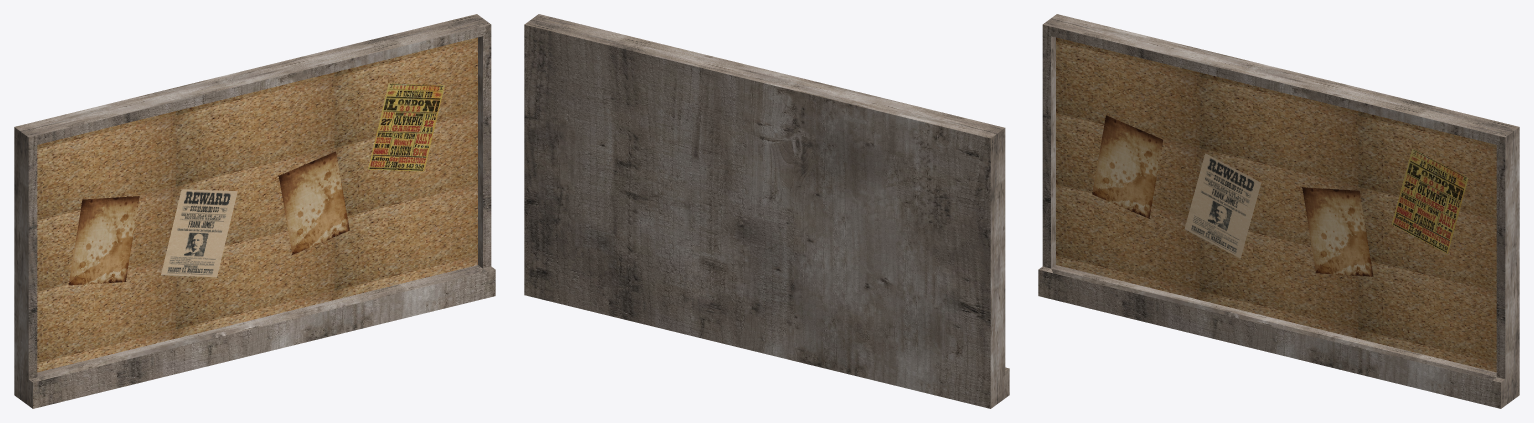
Rendered from notice board.FBX.
The picture shows the model from 3 angles, left to right: view 1: azimuth 30°, elevation 25°; view 2: azimuth 150°, elevation 25°; view 3: azimuth 330°, elevation 25°; orthographic projection.
Visible parts, largest first — view 1: Object001, pasted__pasted__pasted__pCube1, Plane001, Plane002, Plane004, Plane003; view 2: pasted__pasted__pasted__pCube1; view 3: Object001, pasted__pasted__pasted__pCube1, Plane003, Plane004, Plane002, Plane001.
Boxes of the visible parts, left/top/right/bottom form: Object001: left=37, top=37, right=477, bottom=372; pasted__pasted__pasted__pCube1: left=14, top=14, right=495, bottom=408; Plane001: left=368, top=83, right=444, bottom=171; Plane002: left=161, top=189, right=237, bottom=277; Plane004: left=68, top=196, right=139, bottom=285; Plane003: left=278, top=151, right=349, bottom=254; pasted__pasted__pasted__pCube1: left=524, top=14, right=1009, bottom=408; Object001: left=1056, top=37, right=1496, bottom=372; pasted__pasted__pasted__pCube1: left=1038, top=14, right=1519, bottom=408; Plane003: left=1302, top=187, right=1373, bottom=276; Plane004: left=1092, top=115, right=1163, bottom=218; Plane002: left=1184, top=153, right=1261, bottom=258; Plane001: left=1391, top=149, right=1468, bottom=253.
Bounding box in the file's own units: 93.98 × 52.07 × 6.61.
Materials: 5 (5 with a texture image).
